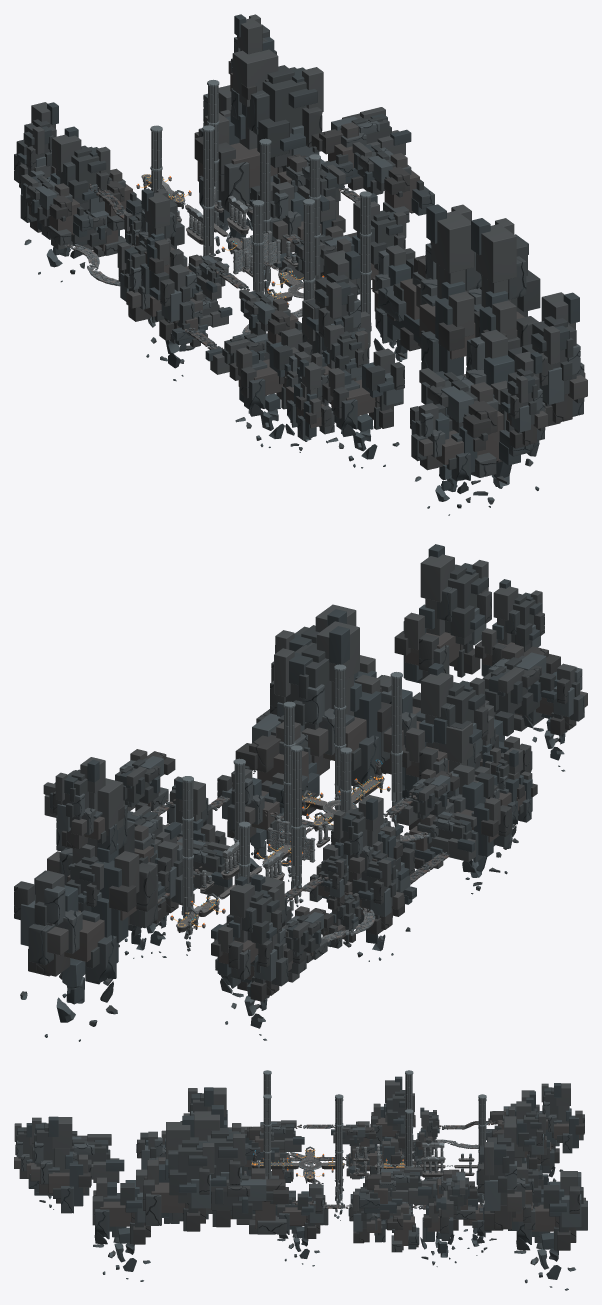
Rendered from underworld3Japanese.glb.
3 views of the same model, one above another, from view 1: azimuth 30°, elevation 25°; view 2: azimuth 150°, elevation 25°; view 3: azimuth 270°, elevation 25° (orthographic). The views are drawn at different scales.
Parts seen in each view (by area): view 1: ruins_001.045, ruins_001.041, ruins_001.082, ruins_001.089, ruins_002.013, ruins_001.088, ruins_002.028, ruins_002.011, ruins_001.040, ruins_001.053, ruins_001.051, ruins_001.017 (+29 smaller); view 2: ruins_001.041, ruins_002.025, ruins_001.089, ruins_001.045, ruins_001.017, ruins_001.049, ruins_001.046, ruins_002.011, ruins_001.088, ruins_001.087, ruins_001.054, ruins_001.006 (+30 smaller); view 3: ruins_001.082, ruins_002.025, ruins_001.045, ruins_001.089, ruins_002.029, ruins_001.054, ruins_001.041, ruins_001.053, ruins_002.014, ruins_001.049, ruins_001.006, ruins_001.088 (+22 smaller).
Part boxes in pixels (bbox=[...]): ruins_001.045: bbox=[194, 36, 323, 212]; ruins_001.041: bbox=[416, 204, 481, 375]; ruins_001.082: bbox=[466, 218, 540, 370]; ruins_001.089: bbox=[522, 292, 587, 426]; ruins_002.013: bbox=[322, 348, 404, 468]; ruins_001.088: bbox=[419, 368, 529, 477]; ruins_002.028: bbox=[410, 403, 485, 515]; ruins_002.011: bbox=[229, 328, 312, 447]; ruins_001.040: bbox=[311, 107, 411, 190]; ruins_001.053: bbox=[352, 142, 434, 222]; ruins_001.051: bbox=[27, 126, 110, 239]; ruins_001.017: bbox=[302, 250, 367, 350]; ruins_001.041: bbox=[270, 621, 391, 787]; ruins_002.025: bbox=[14, 870, 129, 1041]; ruins_001.089: bbox=[394, 544, 491, 683]; ruins_001.045: bbox=[47, 770, 157, 943]; ruins_001.017: bbox=[402, 663, 488, 791]; ruins_001.049: bbox=[211, 876, 281, 980]; ruins_001.046: bbox=[53, 757, 124, 854]; ruins_002.011: bbox=[447, 764, 512, 894]; ruins_001.088: bbox=[482, 643, 560, 731]; ruins_001.087: bbox=[475, 579, 544, 676]; ruins_001.054: bbox=[235, 709, 330, 815]; ruins_001.006: bbox=[331, 795, 402, 886]; ruins_001.082: bbox=[143, 1115, 214, 1231]; ruins_002.025: bbox=[514, 1171, 587, 1290]; ruins_001.045: bbox=[476, 1116, 539, 1230]; ruins_001.089: bbox=[31, 1116, 91, 1213]; ruins_002.029: bbox=[92, 1169, 161, 1281]; ruins_001.054: bbox=[206, 1168, 295, 1234]; ruins_001.041: bbox=[172, 1105, 246, 1227]; ruins_001.053: bbox=[359, 1167, 431, 1219]; ruins_002.014: bbox=[277, 1184, 328, 1266]; ruins_001.049: bbox=[541, 1083, 584, 1153]; ruins_001.006: bbox=[371, 1076, 415, 1147]; ruins_001.088: bbox=[28, 1134, 124, 1203].
Size of the model in its own units: 324 by 261 by 704.
16 materials, 13 textured.
